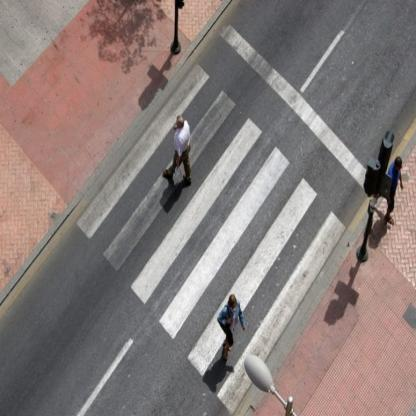Crosswalk: (96, 112, 352, 400)
